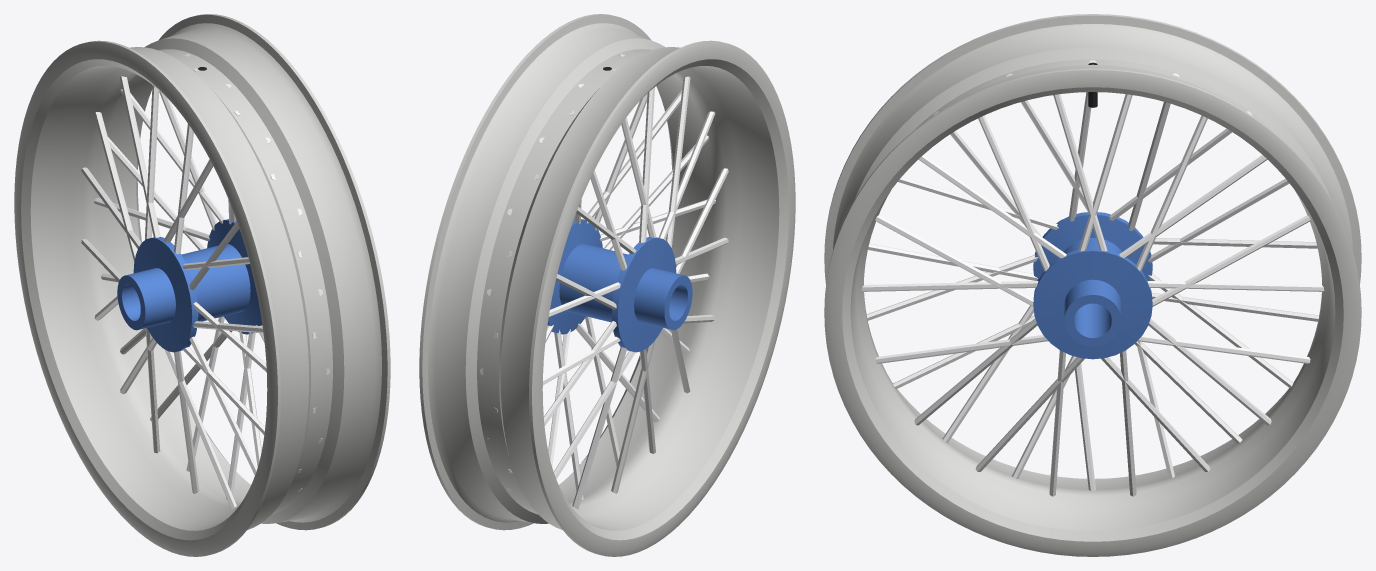
File: sm_17_black_gold.glb
3 views of the same model, side by side, from view 1: azimuth 30°, elevation 25°; view 2: azimuth 150°, elevation 25°; view 3: azimuth 270°, elevation 25° (orthographic).
Visible parts, largest first — view 1: lod0; view 2: lod0; view 3: lod0.
Boxes of the visible parts, x1,y1,x2,y2 form: lod0: (14,14,390,556); lod0: (419,14,795,556); lod0: (824,14,1361,556).
Size of what is drawn, in the model's own units: 0.14 by 0.4498 by 0.4498.
